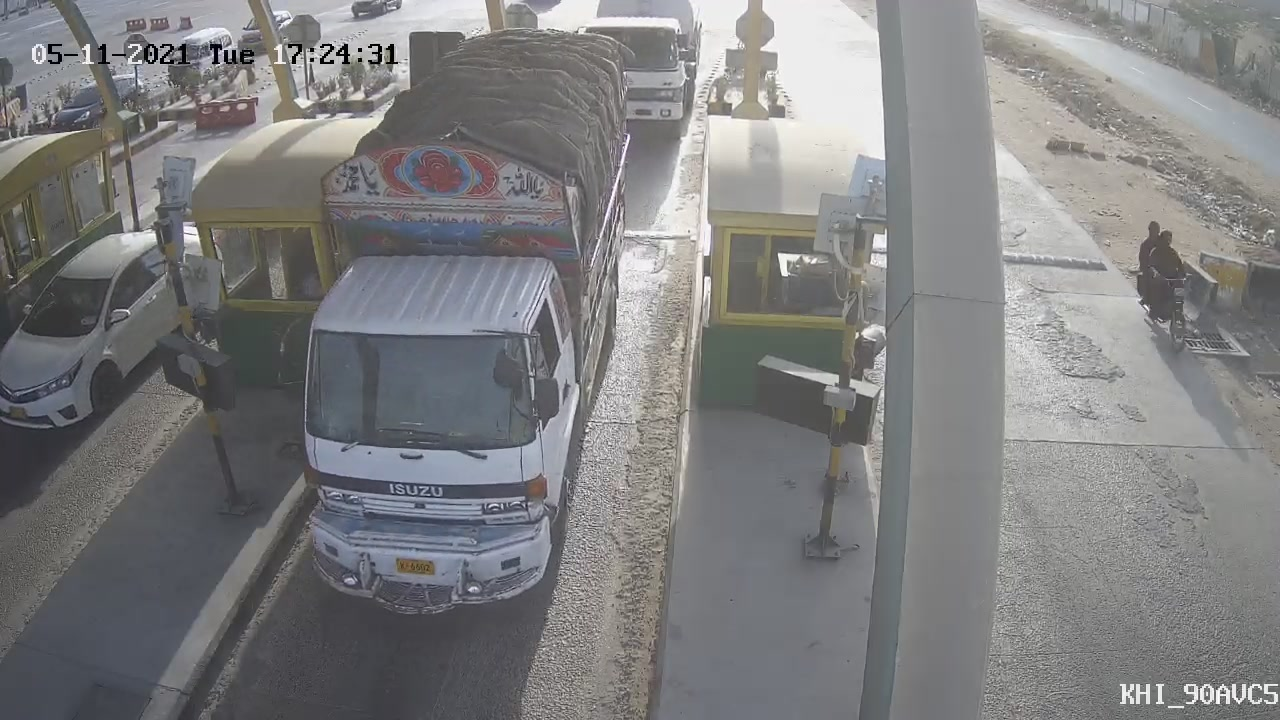F5: (248, 11, 668, 642)
